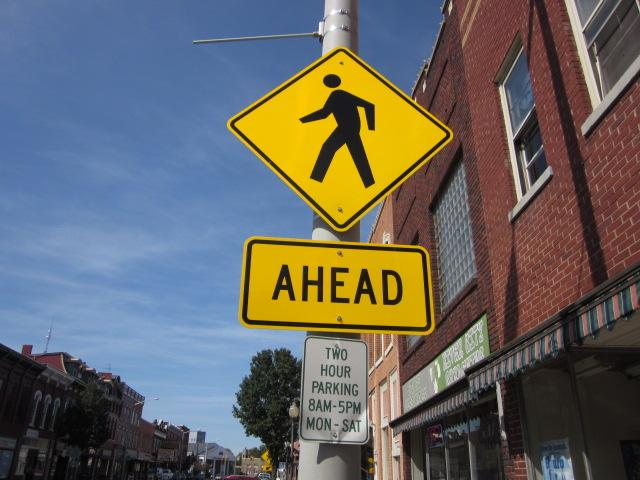regulatory: (296, 331, 375, 450)
warning: (225, 35, 457, 235), (220, 237, 455, 336)
